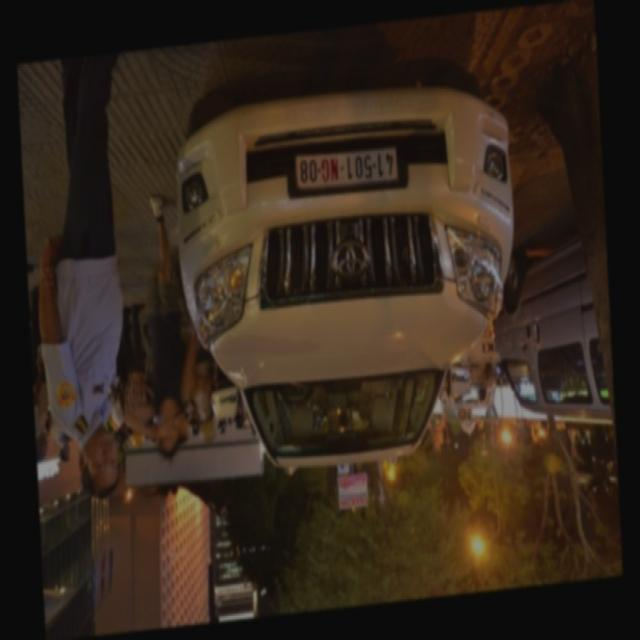bien_ngoai_giao: (293, 144, 402, 188)
